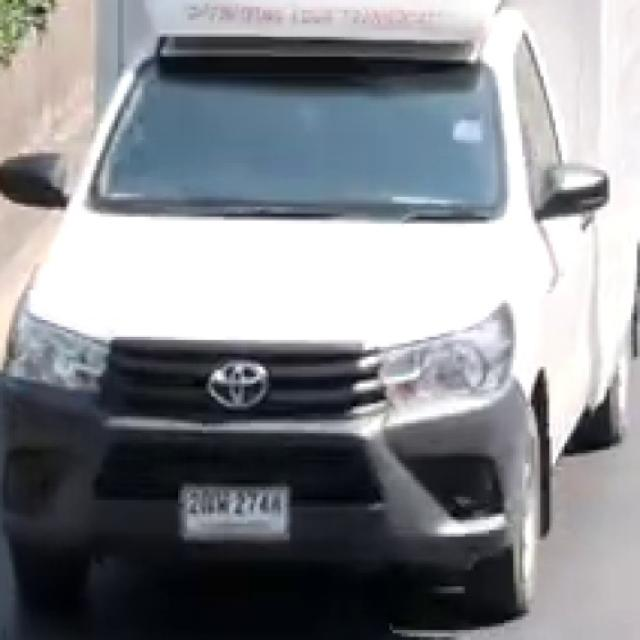plate: (177, 482, 295, 541)
